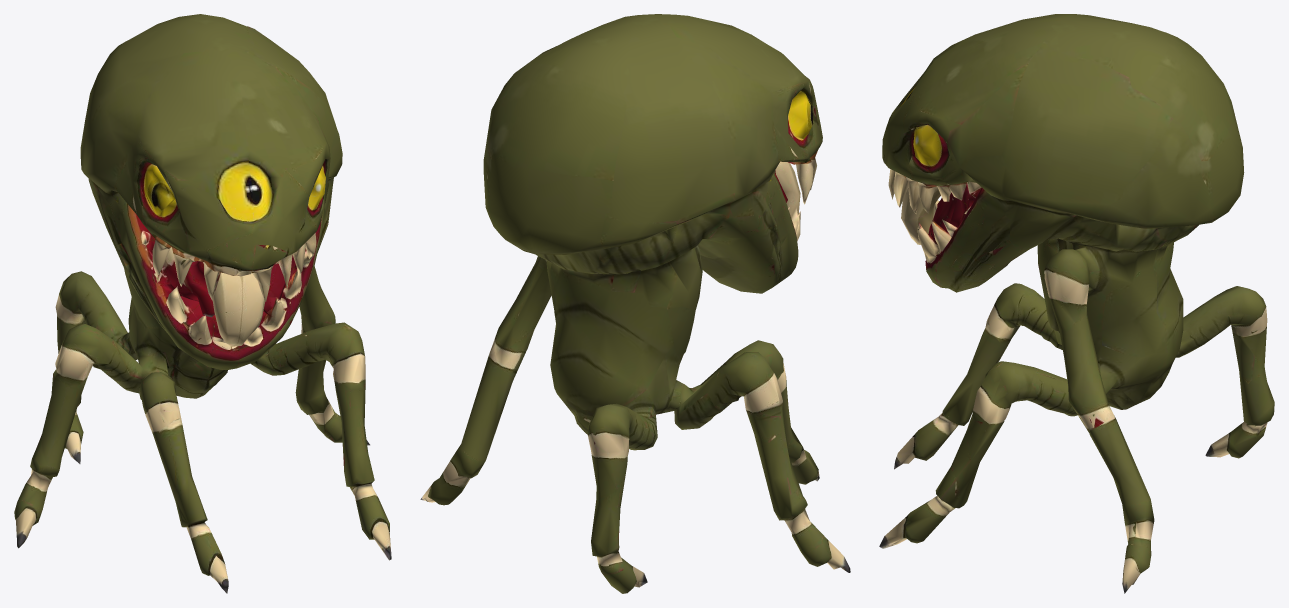
Rendered from chomper.glb.
The picture shows the model from 3 angles, left to right: view 1: azimuth 30°, elevation 25°; view 2: azimuth 150°, elevation 25°; view 3: azimuth 270°, elevation 25°; orthographic projection. The views are drawn at different scales.
Bounding box in the file's own units: 1.58 × 1.9 × 1.41.
1 material, 1 textured.
